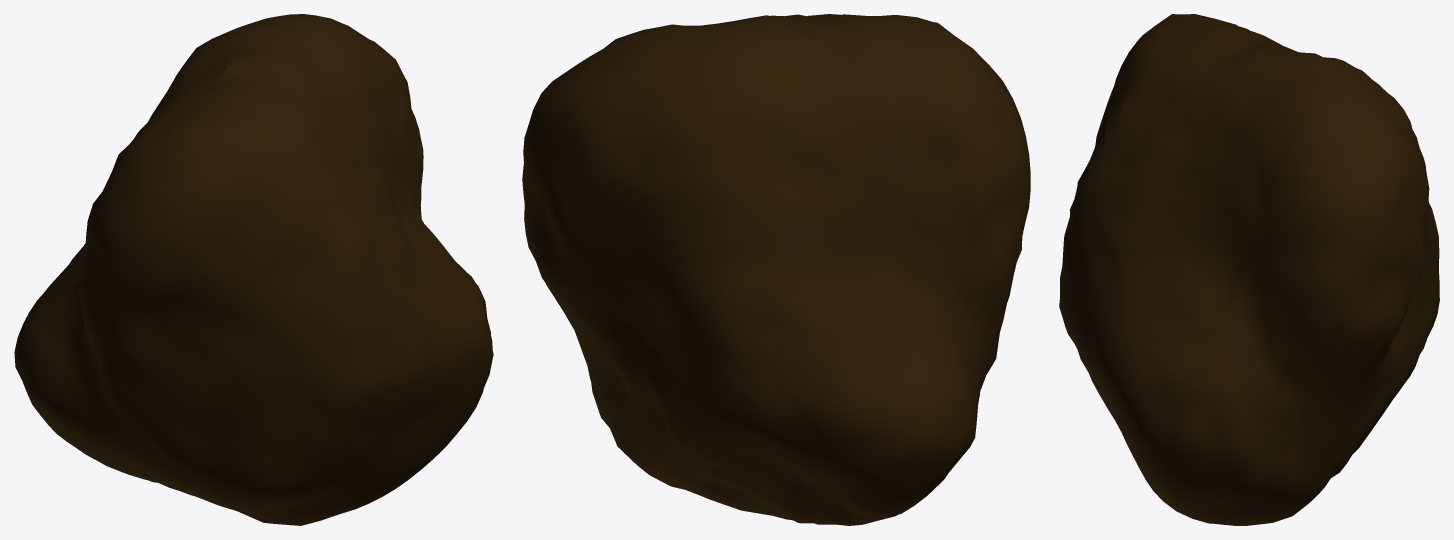
The model's file is asteroide.fbx.
The picture shows the model from 3 angles, left to right: view 1: azimuth 30°, elevation 25°; view 2: azimuth 150°, elevation 25°; view 3: azimuth 270°, elevation 25°; orthographic projection. The views are drawn at different scales.
Parts seen in each view (by area): view 1: rock; view 2: rock; view 3: rock.
Boxes of the visible parts, bbox=[...] form: rock: bbox=[14, 14, 493, 525]; rock: bbox=[522, 14, 1030, 525]; rock: bbox=[1059, 14, 1439, 525].
Bounding box in the file's own units: 115 × 128 × 97.95.
